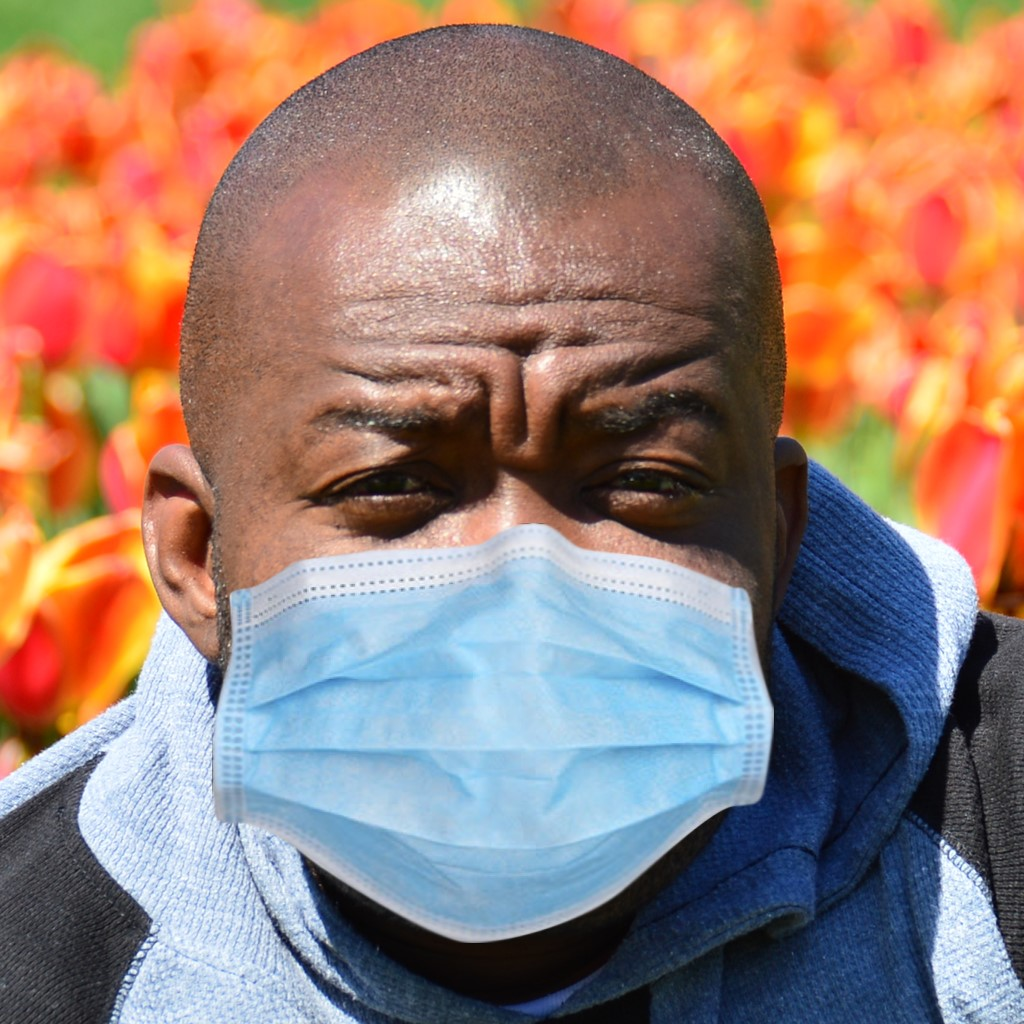con_mascara: (176, 60, 804, 889)
